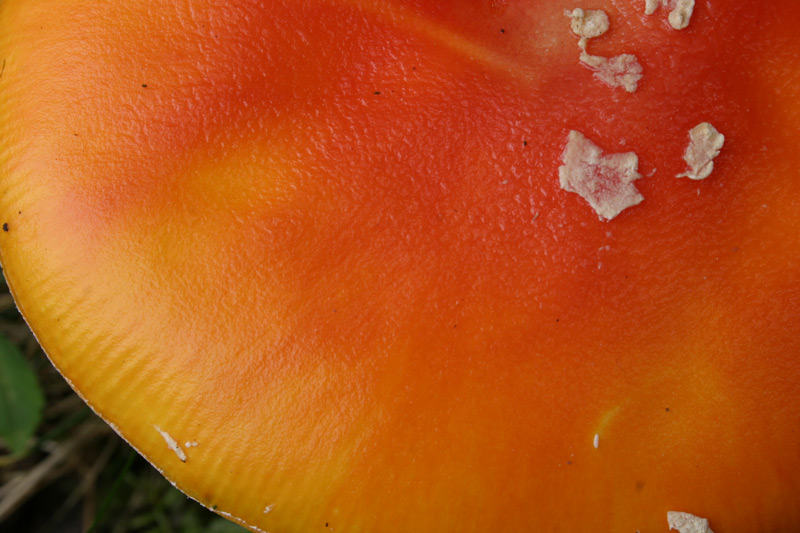orange: (1, 1, 799, 532)
